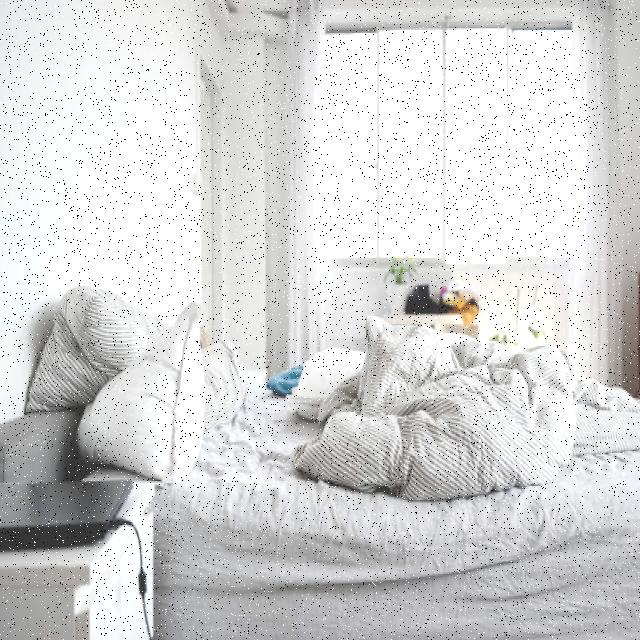bed: (79, 267, 640, 640)
